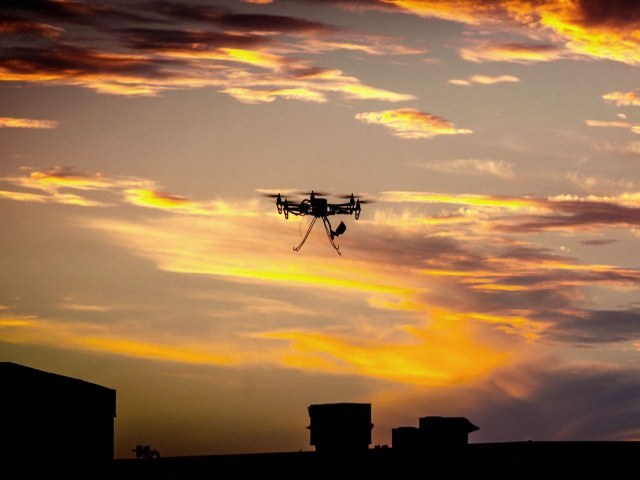drone: (255, 186, 384, 257)
